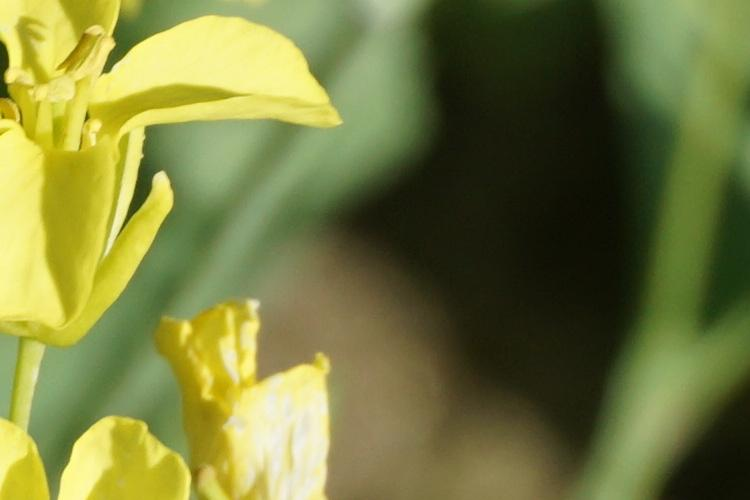yellow: (1, 1, 374, 345), (145, 307, 342, 500), (3, 406, 196, 500)
